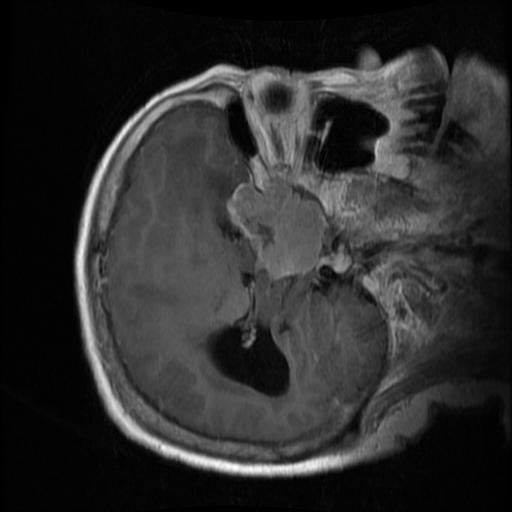meningioma: (224, 170, 323, 279)
